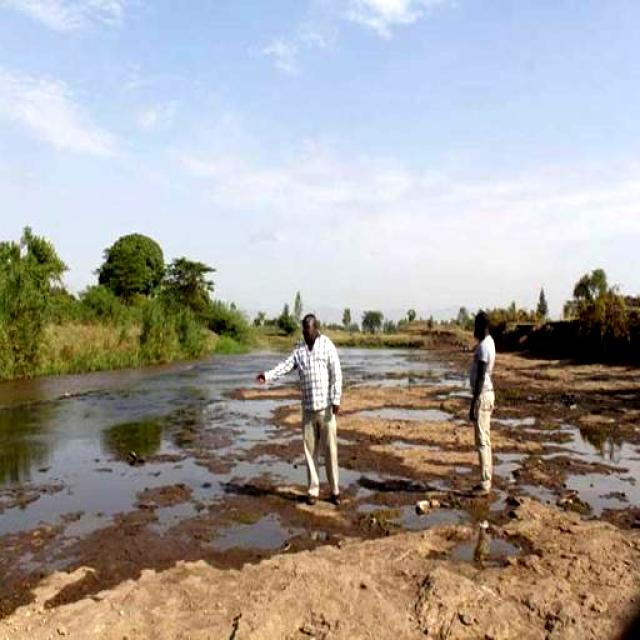civilian: (246, 301, 366, 523), (440, 303, 506, 511)
